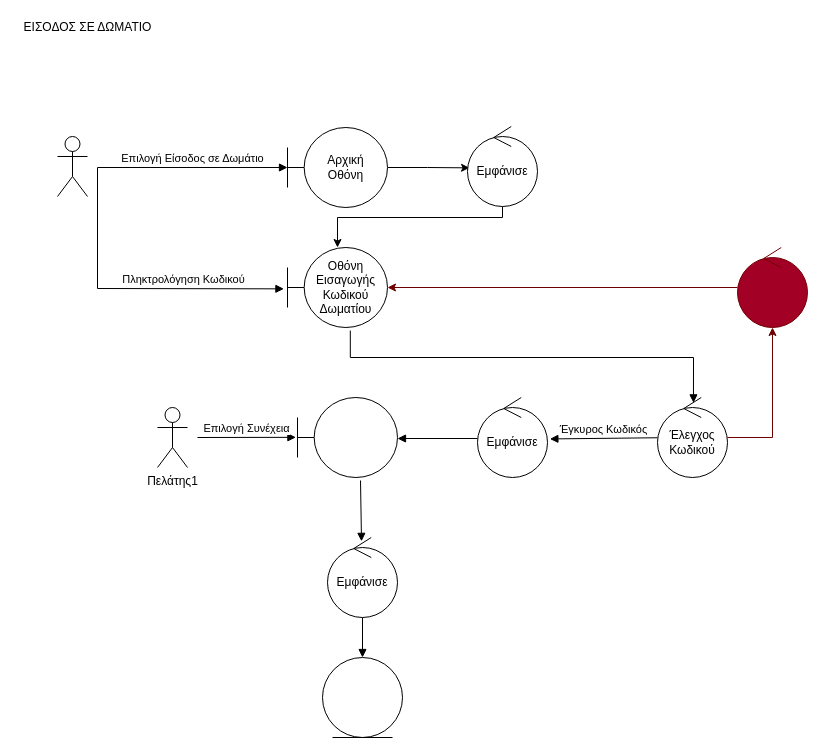
The diagram is 825 pixels wide and 755 high, and some of its shapes have lost their labels. The centre of each missing label's shape, as x and y in pixels:
Διαδικασία Ομαδικής Παραγγελίας: (362,697)
Δωμάτιο: (347,437)
Μήνυμα Μη Έγκυρος Κωδικός: (772,287)
Πελάτης2: (72,166)
